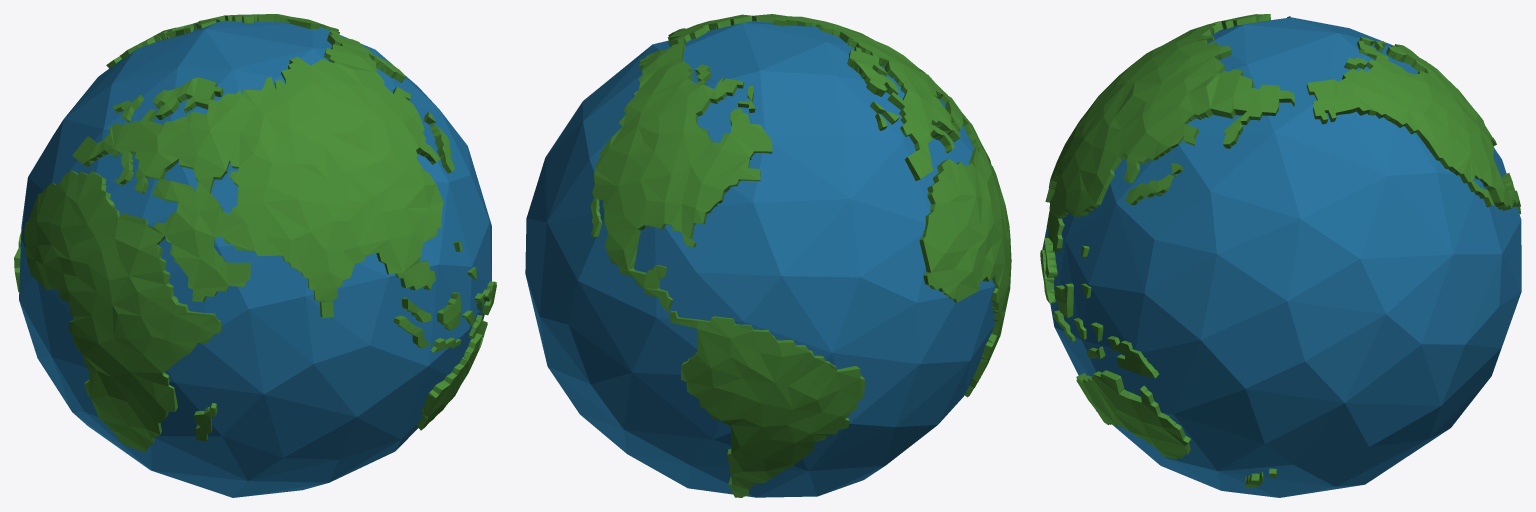
Rendered from earth.obj.
3 renders of one model, left to right at view 1: azimuth 30°, elevation 25°; view 2: azimuth 150°, elevation 25°; view 3: azimuth 270°, elevation 25°, orthographic.
Parts seen in each view (by area): view 1: Land_, Oceans; view 2: Oceans, Land_; view 3: Oceans, Land_.
Part boxes in pixels (bbox=[...]): Land_: bbox=[14, 14, 496, 452]; Oceans: bbox=[19, 20, 491, 497]; Oceans: bbox=[525, 21, 995, 497]; Land_: bbox=[590, 14, 1011, 497]; Oceans: bbox=[1042, 17, 1521, 497]; Land_: bbox=[1040, 14, 1520, 487].
Size of the model in its own units: 2.08 by 2.06 by 2.07.
